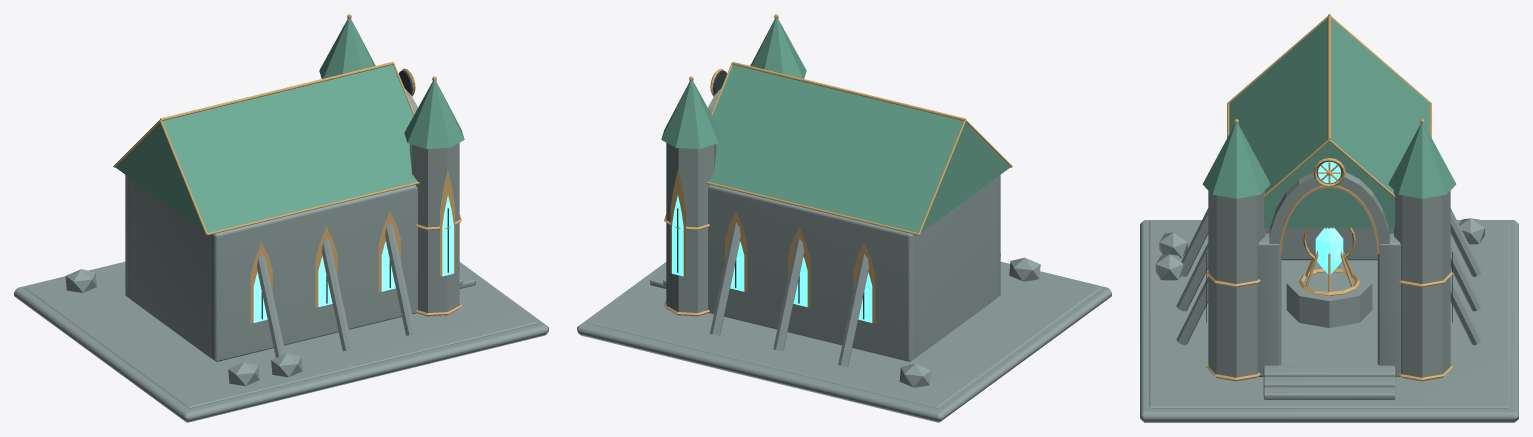
File: site-shrine.glb
The picture shows the model from 3 angles, left to right: view 1: azimuth 30°, elevation 25°; view 2: azimuth 150°, elevation 25°; view 3: azimuth 270°, elevation 25°; orthographic projection. The views are drawn at different scales.
Parts seen in each view (by area): view 1: site-shrine / Masonry | weathered Baltic limestone, site-shrine / Copper | steep verdigris roof, site-shrine / Fittings | worn maritime brass, site-shrine / Lamp | charged glacial blue, site-shrine / Hull | charcoal iron; view 2: site-shrine / Masonry | weathered Baltic limestone, site-shrine / Copper | steep verdigris roof, site-shrine / Fittings | worn maritime brass, site-shrine / Lamp | charged glacial blue, site-shrine / Hull | charcoal iron; view 3: site-shrine / Masonry | weathered Baltic limestone, site-shrine / Copper | steep verdigris roof, site-shrine / Fittings | worn maritime brass, Suspended sapphire reliquary.
Part boxes in pixels (<box>): site-shrine / Masonry | weathered Baltic limestone: <box>14,89,548,422</box>; site-shrine / Copper | steep verdigris roof: <box>115,19,464,232</box>; site-shrine / Fittings | worn maritime brass: <box>113,14,461,323</box>; site-shrine / Lamp | charged glacial blue: <box>253,195,453,322</box>; site-shrine / Hull | charcoal iron: <box>261,70,448,319</box>; site-shrine / Masonry | weathered Baltic limestone: <box>577,89,1111,422</box>; site-shrine / Copper | steep verdigris roof: <box>661,19,1010,232</box>; site-shrine / Fittings | worn maritime brass: <box>664,14,1012,323</box>; site-shrine / Lamp | charged glacial blue: <box>672,195,872,322</box>; site-shrine / Hull | charcoal iron: <box>677,70,864,319</box>; site-shrine / Masonry | weathered Baltic limestone: <box>1140,172,1518,422</box>; site-shrine / Copper | steep verdigris roof: <box>1202,18,1456,227</box>; site-shrine / Fittings | worn maritime brass: <box>1205,14,1453,380</box>; Suspended sapphire reliquary: <box>1315,227,1343,274</box>.
Bounding box in the file's own units: 12.4 × 7.95 × 10.2.
